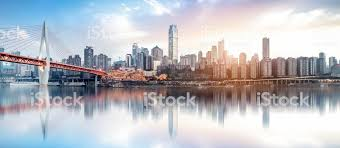lake: (6, 89, 339, 147)
sky: (2, 1, 340, 46)
vilage: (66, 37, 337, 82)
